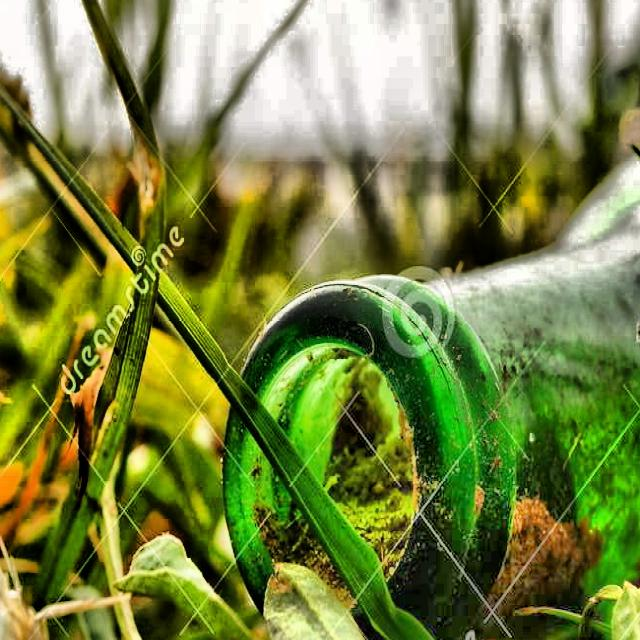glass: (204, 112, 640, 636)
